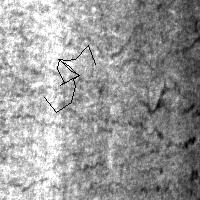crazing: (9, 84, 197, 198), (60, 20, 194, 69), (44, 45, 95, 112)
